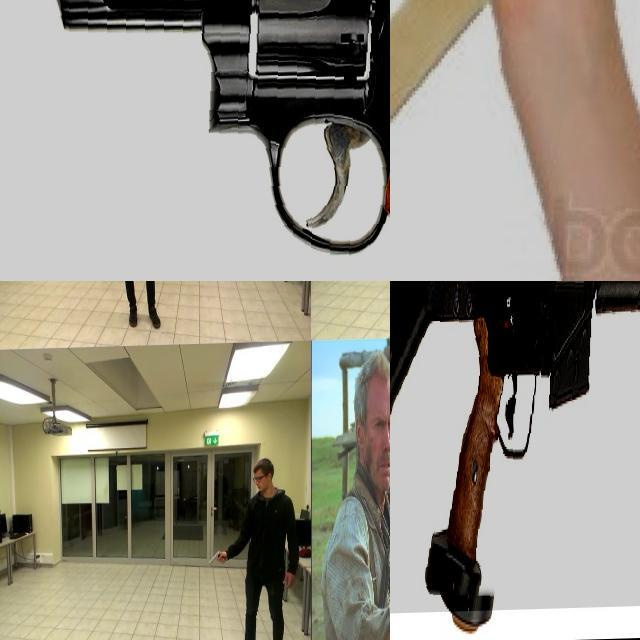-: (390, 0, 640, 281)
gun-knife-thesis - v11 Yolov5 augmented: (0, 0, 390, 281), (390, 281, 640, 616), (203, 548, 227, 568), (76, 281, 97, 291)
